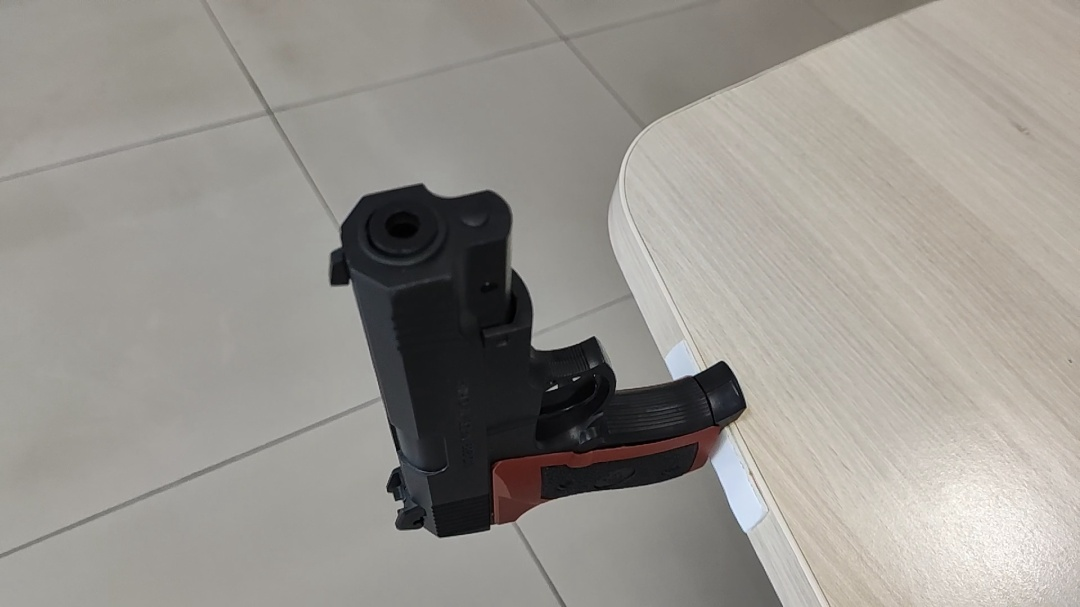gun: (616, 195, 775, 295)
